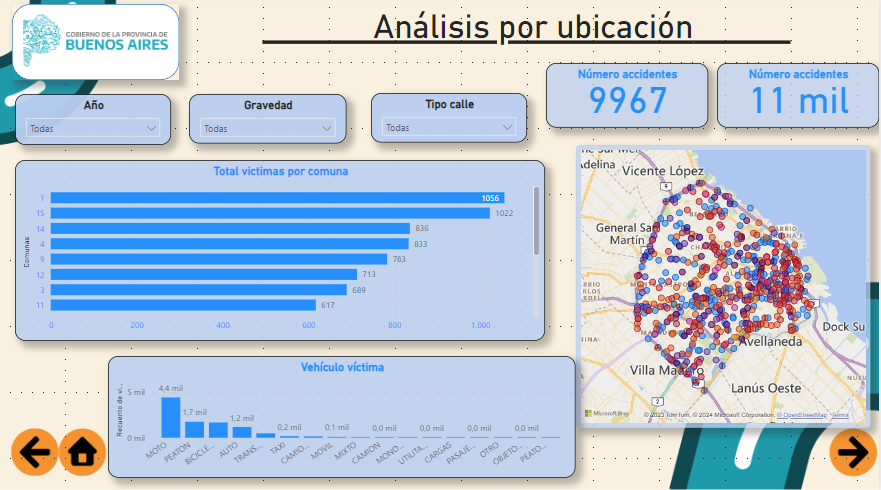

The page's visual inventory and layout, read from the dashboard file:
{"tool":"powerbi","page":{"name":"Análisis ubicación","canvas":[1280,720],"ordinal":4},"visuals":[{"type":"group","id":"g1","title":"Grupo 1","box":[18.9,0,242.9,132.4],"z":0},{"type":"shape","box":[18.9,11.4,243.4,110.7],"z":0,"group":"g1"},{"type":"image","box":[27,0,227.2,132],"z":1000,"group":"g1"},{"type":"textbox","box":[378.2,11.6,778.2,85.8],"z":1000},{"type":"slicer","title":"Año","fields":{"Values":["hechos.fecha.Variación.Jerarquía de fechas.Año"]},"box":[23.6,142.3,227.4,73.8],"z":2000},{"type":"slicer","title":"Gravedad","fields":{"Values":["hechos.gravedad"]},"box":[276.2,143.2,229.1,72.4],"z":3000},{"type":"slicer","title":"Tipo calle","fields":{"Values":["hechos.tipo_calle"]},"box":[540.6,141.5,227.4,72.4],"z":4000},{"type":"barChart","title":"Total victimas por comuna","fields":{"Category":["hechos.comuna"],"Y":["CountNonNull(hechos.victima)"]},"box":[23.6,239.2,771.4,262.7],"z":5000},{"type":"map","fields":{"Y":["homicidios_hechos.latitud"],"X":["homicidios_hechos.longitud"],"Series":["homicidios_hechos.acusado"]},"box":[838.7,217.3,427.8,410.9],"z":6000},{"type":"card","title":"Número accidentes","fields":{"Values":["hechos.Total accidentes"]},"box":[794.9,97.7,235.8,94.3],"z":7000},{"type":"card","title":"Número accidentes","fields":{"Values":["hechos.Total victimas"]},"box":[1044.2,97.7,235.8,94.3],"z":8000},{"type":"columnChart","title":"Vehículo víctima","fields":{"Category":["hechos.victima"],"Y":["CountNonNull(hechos.victima)"]},"box":[158.3,523.8,680.4,176.8],"z":9000},{"type":"actionButton","box":[1200.8,638.3,79.2,62.3],"z":10000},{"type":"actionButton","box":[92.6,628.2,65.7,62.3],"z":11000},{"type":"actionButton","box":[11.8,633.3,79.2,62.3],"z":12000}]}

Visuals, with their boxes in screenshot pixels (x1, y1, x2, y2), scaled from the page's 1280x720 canvas onto the 881x490 screenshot:
"Grupo 1" group: 13 0 180 90
shape: 13 8 181 83
image: 19 0 175 90
textbox: 260 8 796 66
"Año" slicer: 16 97 173 147
"Gravedad" slicer: 190 97 348 147
"Tipo calle" slicer: 372 96 529 146
"Total victimas por comuna" barChart: 16 163 547 342
map - homicidios_hechos.latitud x homicidios_hechos.longitud: 577 148 872 428
"Número accidentes" card: 547 66 709 131
"Número accidentes" card: 719 66 880 131
"Vehículo víctima" columnChart: 109 356 577 477
actionButton: 826 434 880 477
actionButton: 64 428 109 470
actionButton: 8 431 63 473
